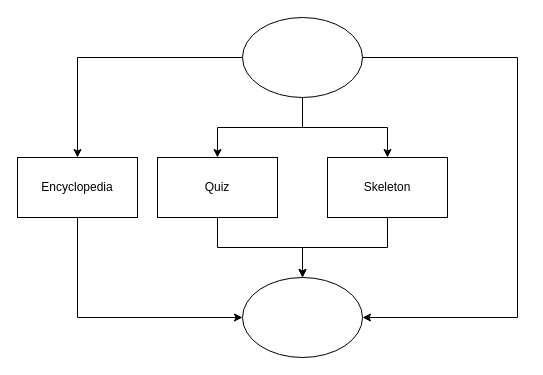
This 543x375 diagram has some shape labels left out. Each missing label, with the box of its shape:
Exit: (242, 276, 362, 358)
Main menu: (242, 16, 362, 98)
